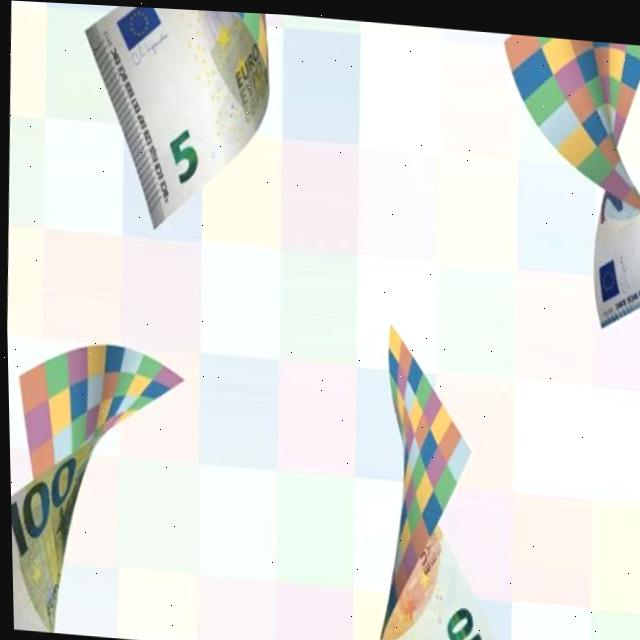banknote: (8, 439, 82, 573), (156, 112, 206, 202), (441, 581, 492, 640)
